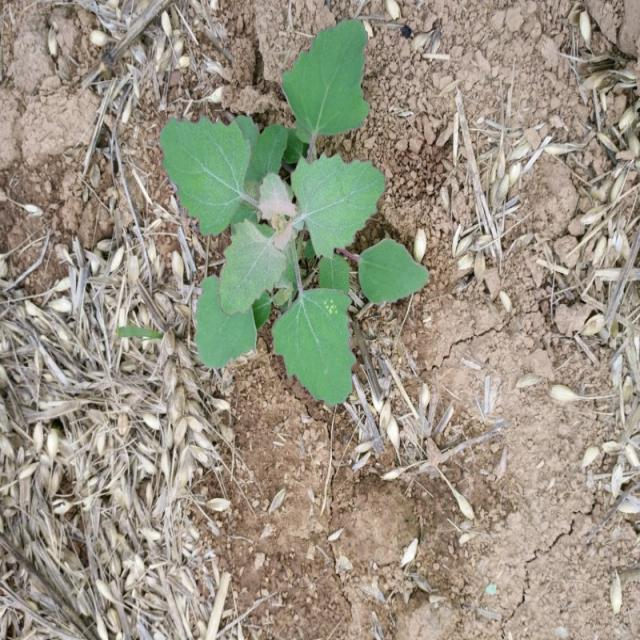ca: (157, 19, 432, 408)
